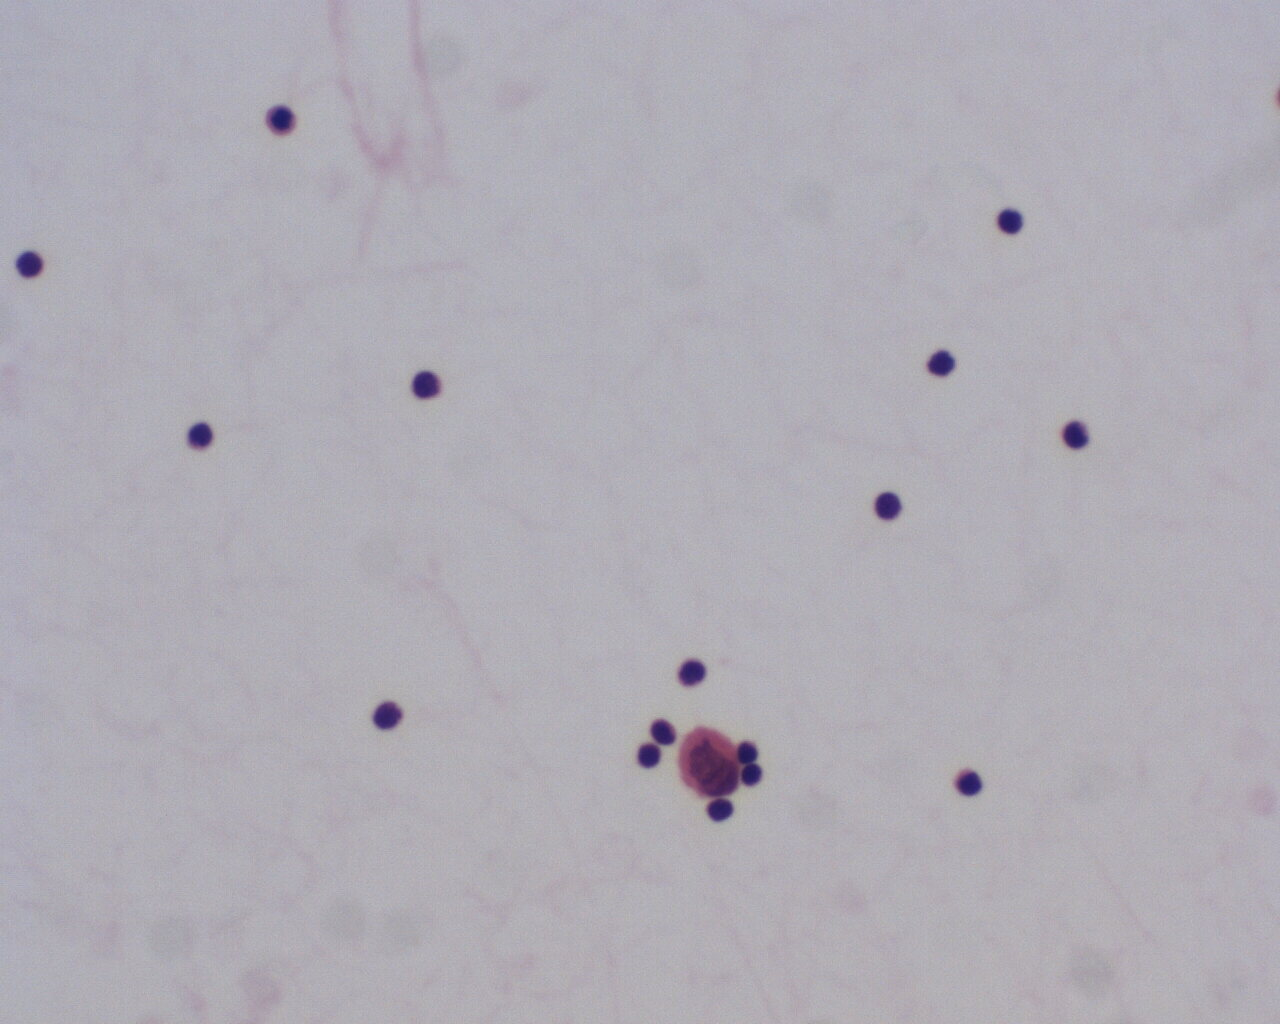ab: (677, 725, 737, 800)
lymph: (11, 245, 47, 287), (365, 697, 406, 731), (872, 487, 907, 529), (991, 207, 1029, 240), (411, 367, 440, 406), (1060, 414, 1089, 452), (927, 347, 957, 383), (185, 418, 216, 452), (955, 767, 988, 798), (635, 741, 664, 770)
